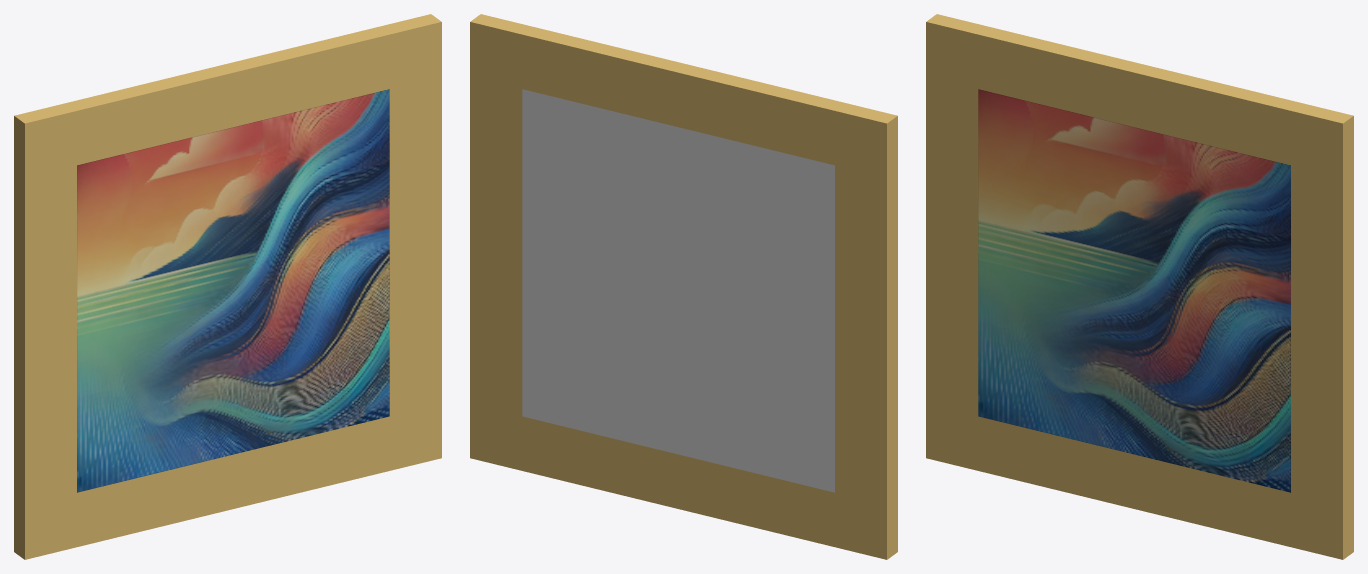
The model's file is card.fbx.
The picture shows the model from 3 angles, left to right: view 1: azimuth 30°, elevation 25°; view 2: azimuth 150°, elevation 25°; view 3: azimuth 330°, elevation 25°; orthographic projection.
Parts seen in each view (by area): view 1: Cube; view 2: Cube; view 3: Cube.
Boxes of the visible parts, box(x1,y1,x2,y2) form: Cube: box(14, 14, 441, 559); Cube: box(470, 14, 897, 559); Cube: box(926, 14, 1353, 559).
Size of the model in its own units: 200 by 200 by 8.93.
Materials: 3 (1 with a texture image).
